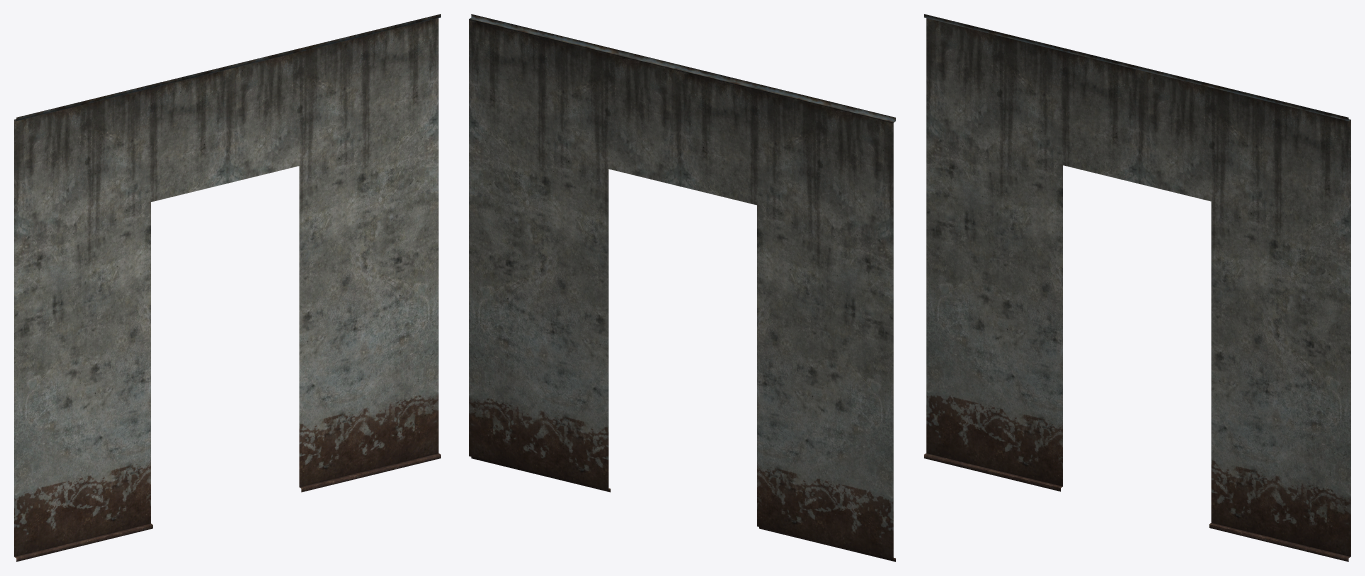
The model's file is scanningroom_damaged_flat_doorway02.dae.
3 renders of one model, left to right at view 1: azimuth 30°, elevation 25°; view 2: azimuth 150°, elevation 25°; view 3: azimuth 330°, elevation 25°, orthographic.
Visible parts, largest first — view 1: scanningroom_damaged_flat_polySurface7; view 2: scanningroom_damaged_flat_polySurface7; view 3: scanningroom_damaged_flat_polySurface7.
Boxes of the visible parts, box(x1,y1,x2,y2) form: scanningroom_damaged_flat_polySurface7: box(14, 14, 440, 561); scanningroom_damaged_flat_polySurface7: box(469, 14, 895, 561); scanningroom_damaged_flat_polySurface7: box(924, 14, 1350, 561).
Bounding box in the file's own units: 4 × 4 × 0.0341.
